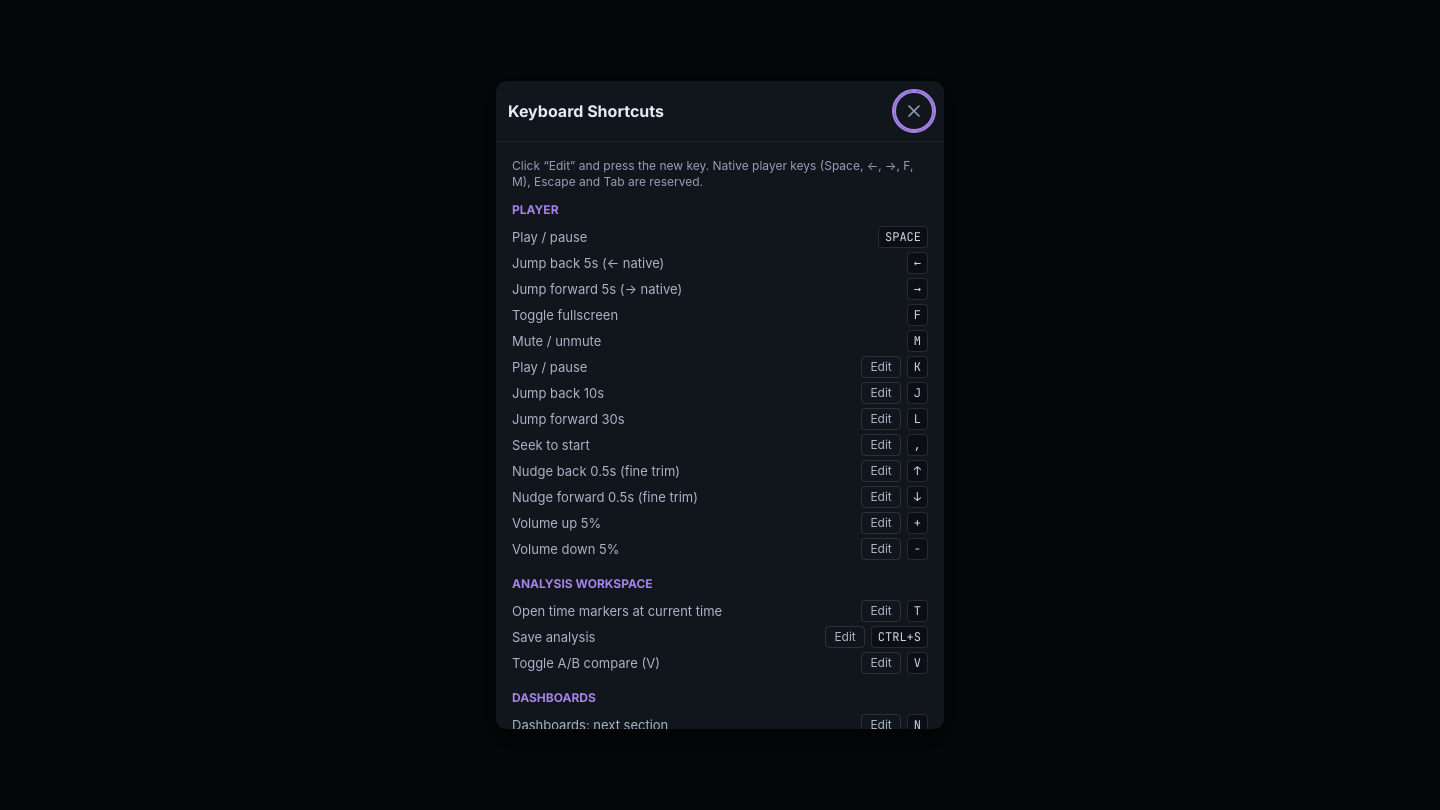
it: ShortcutHelpModal — atalhos configuráveis (A1) › tecla reservada do player é recusada
The image size is (1440, 810).
Click the button with aria-label "edit — jump back 10s": (881, 393) [861,382,901,404]
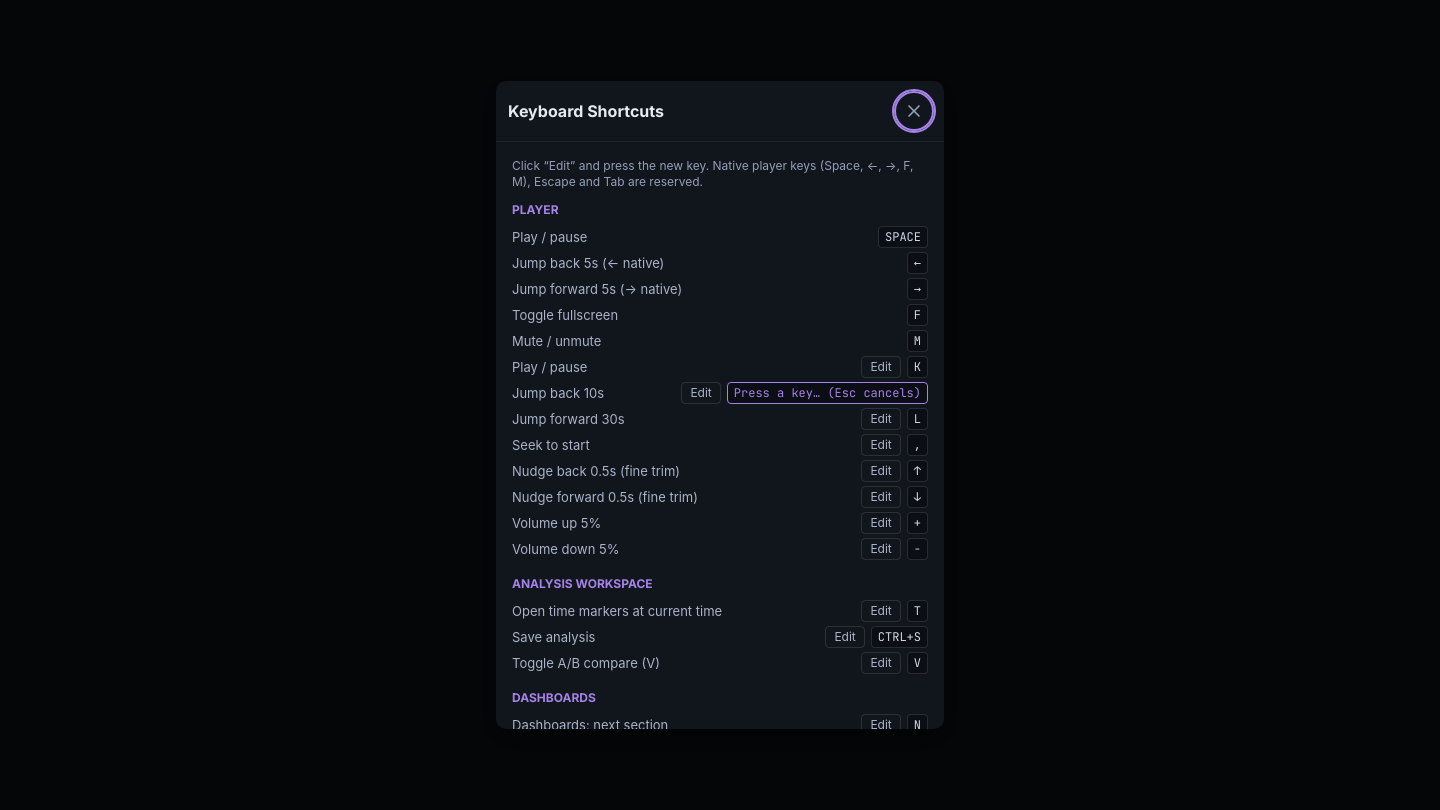
Press m
(page scrolled)
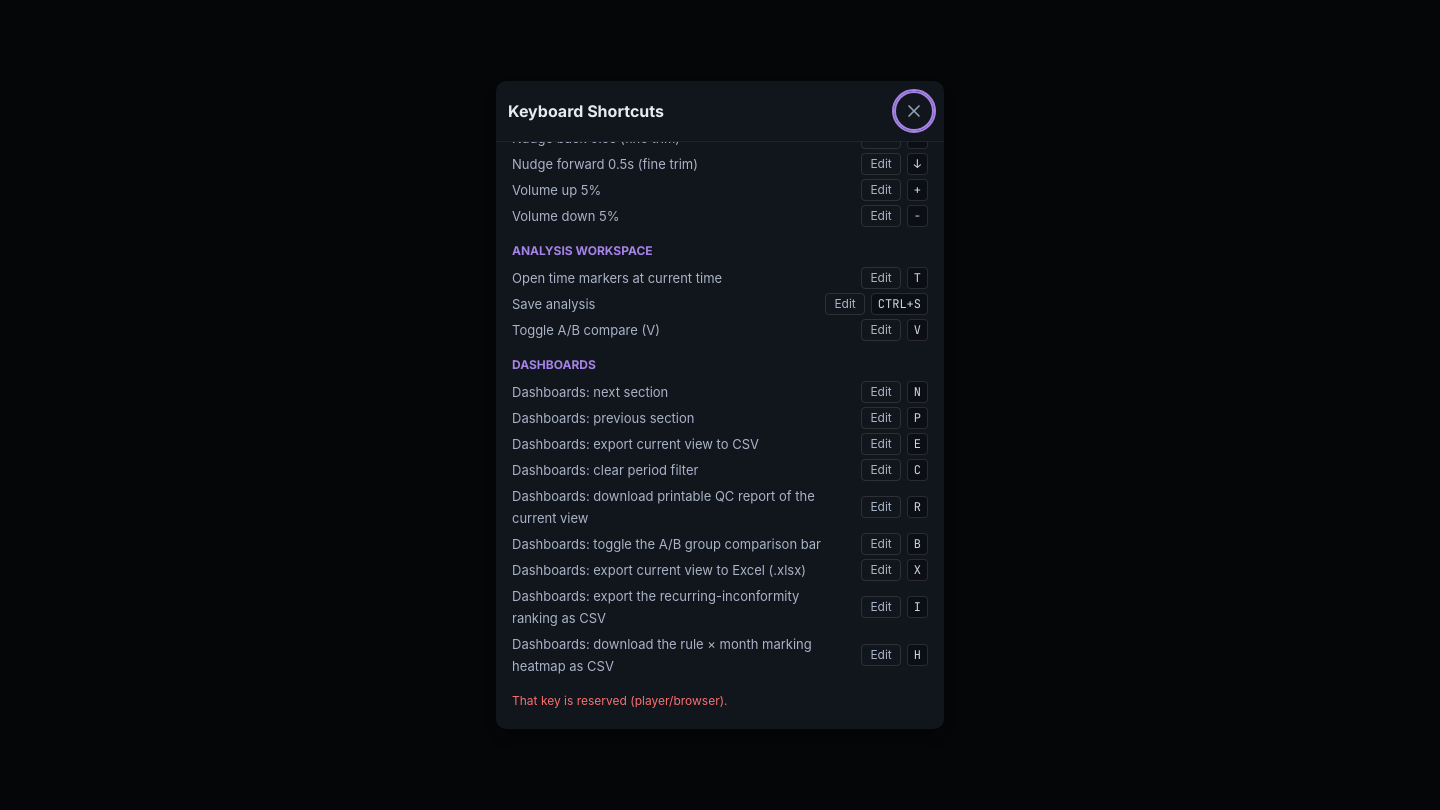
Expected: the message shows "reserved", [512,693,728,708]
